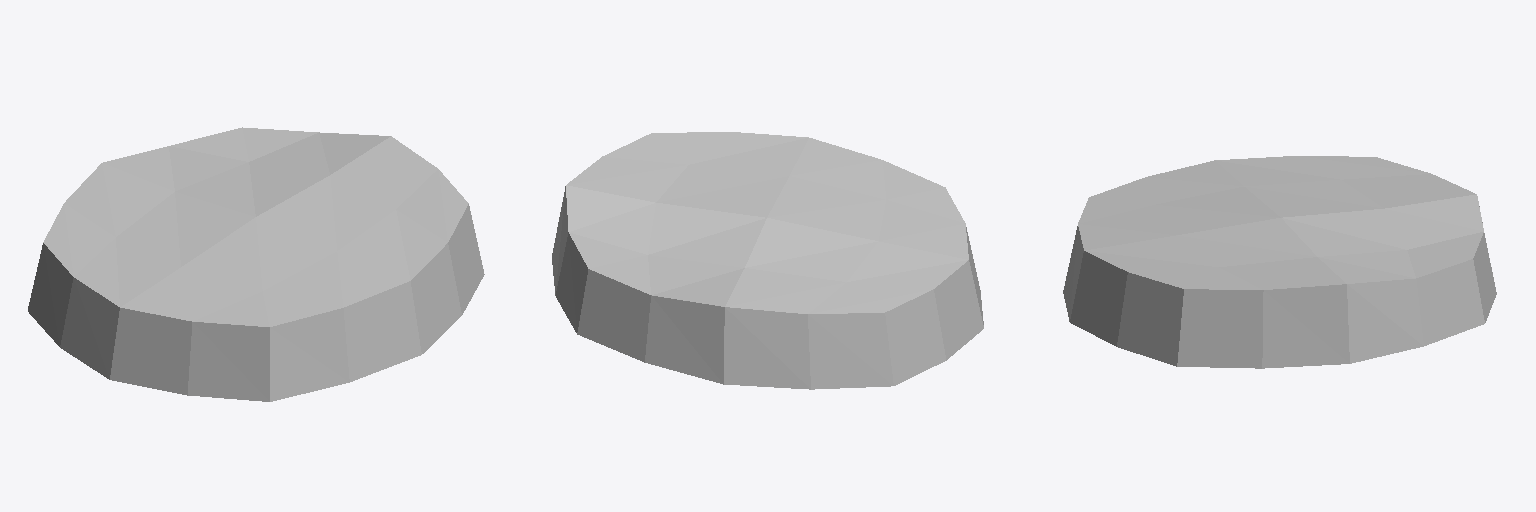
The model's file is slice_12.obj.
3 views of the same model, side by side, from view 1: azimuth 30°, elevation 25°; view 2: azimuth 150°, elevation 25°; view 3: azimuth 270°, elevation 25° (orthographic).
Visible parts, largest first — view 1: Mushroom.013_Cube.022; view 2: Mushroom.013_Cube.022; view 3: Mushroom.013_Cube.022.
Boxes of the visible parts, box(x1,y1,x2,y2) form: Mushroom.013_Cube.022: box(28, 127, 484, 401); Mushroom.013_Cube.022: box(552, 132, 983, 389); Mushroom.013_Cube.022: box(1063, 156, 1496, 368).
Size of the model in its own units: 0.7398 by 0.2046 by 0.7424.